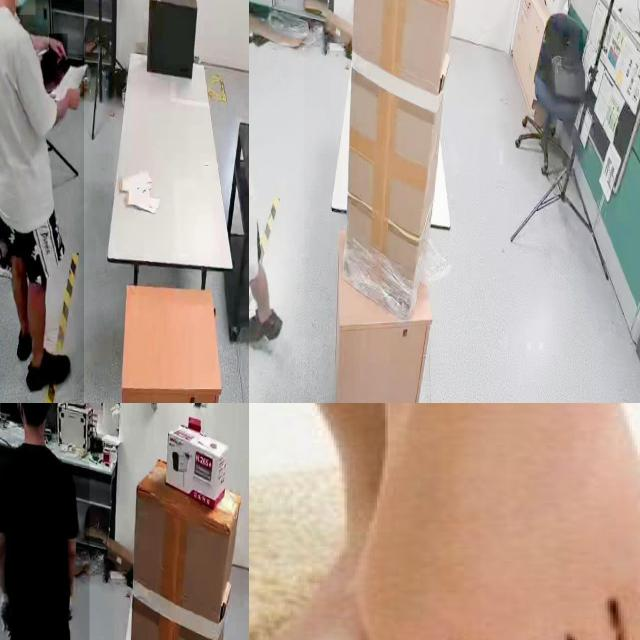Barefoots: (356, 403, 640, 640)
face_mask: (14, 0, 35, 15)
hand_noglove: (64, 79, 82, 115), (49, 34, 68, 64)
person: (0, 0, 84, 403), (249, 13, 305, 403), (0, 403, 90, 640)
shoes: (25, 345, 76, 397), (249, 306, 284, 344)
